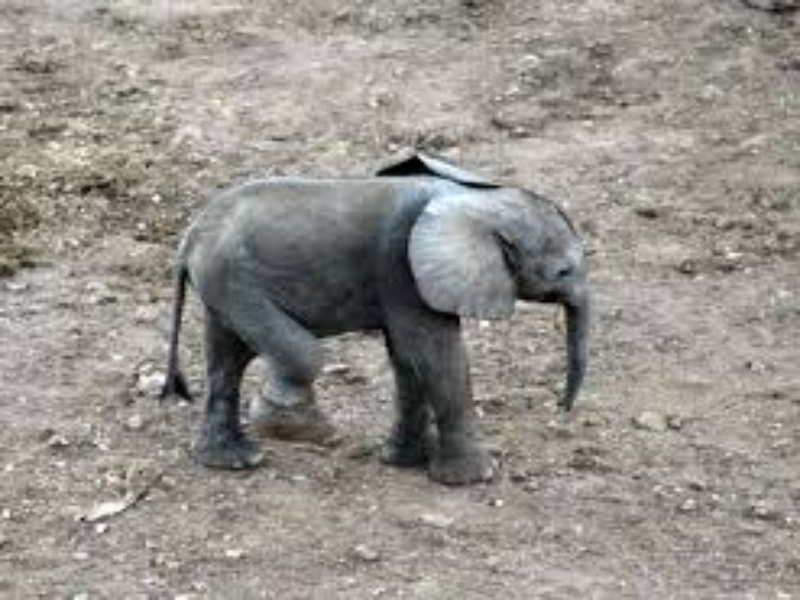elephant: (150, 151, 605, 485)
